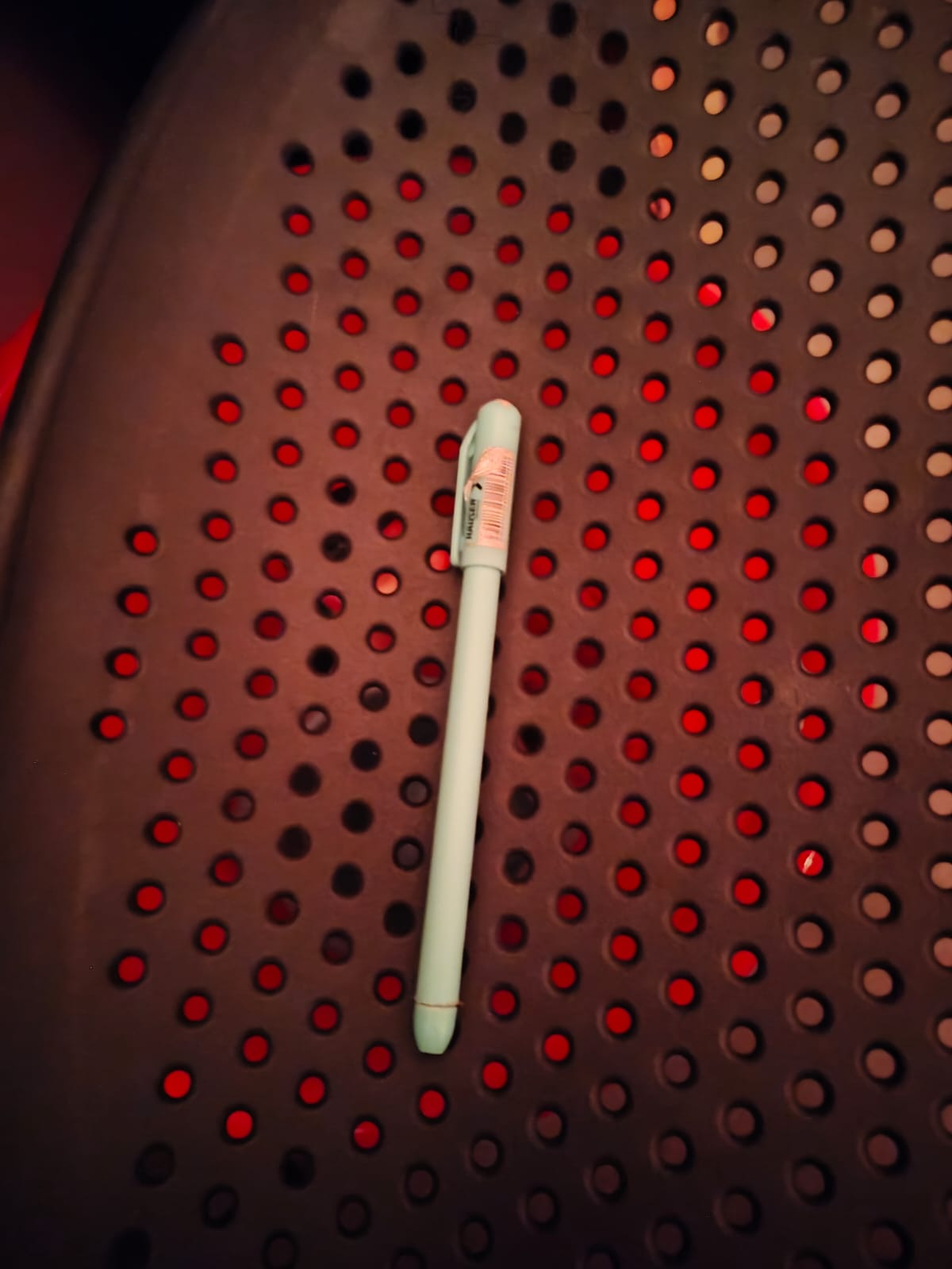pen: (335, 340, 569, 1067)
